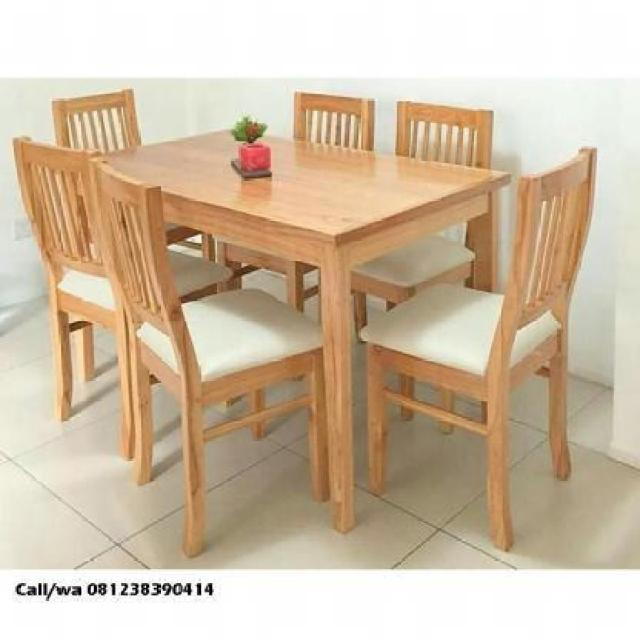tables: (97, 124, 512, 534)
